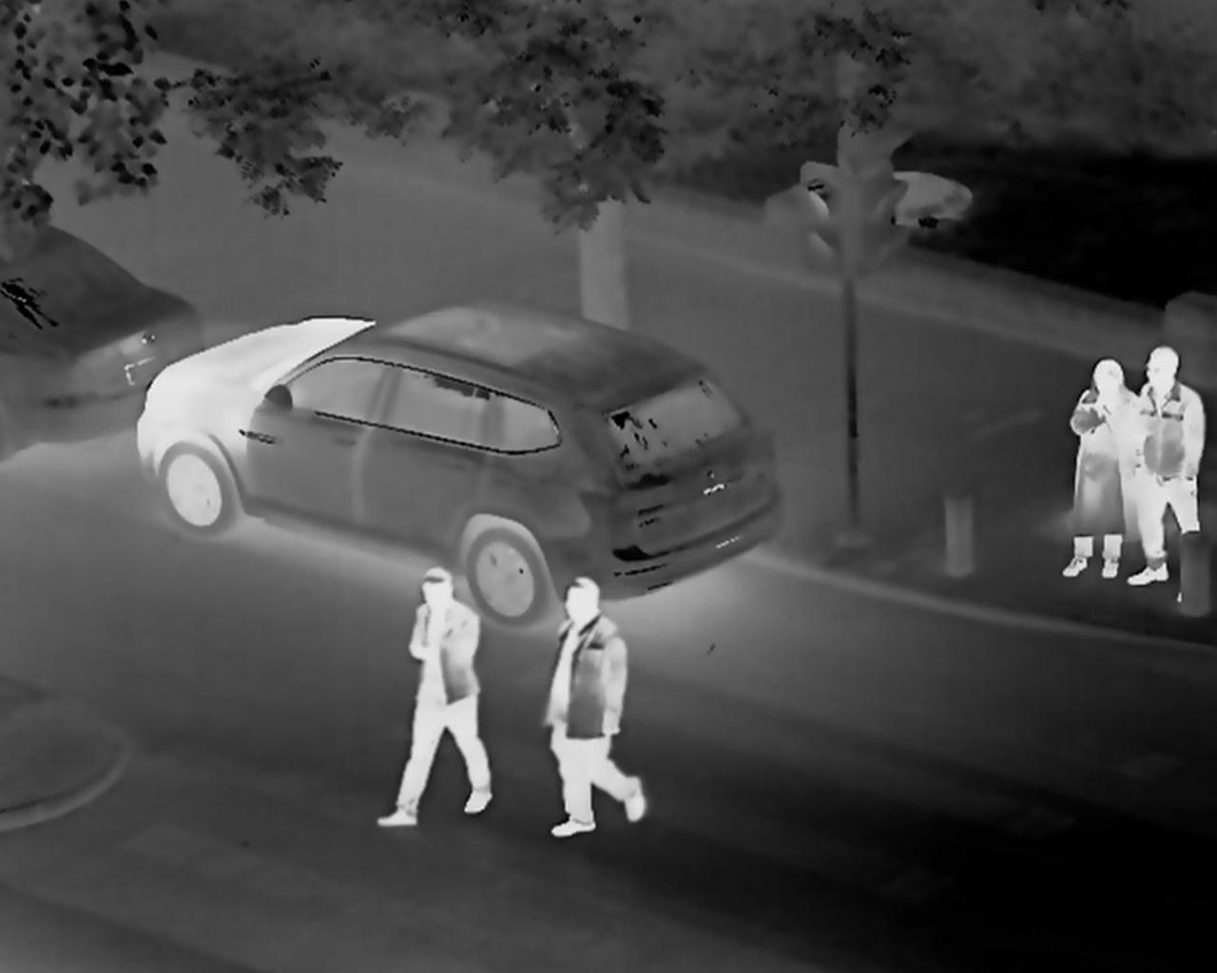person: (538, 575, 648, 855), (408, 563, 490, 845), (1133, 345, 1202, 580), (1057, 347, 1117, 577)
